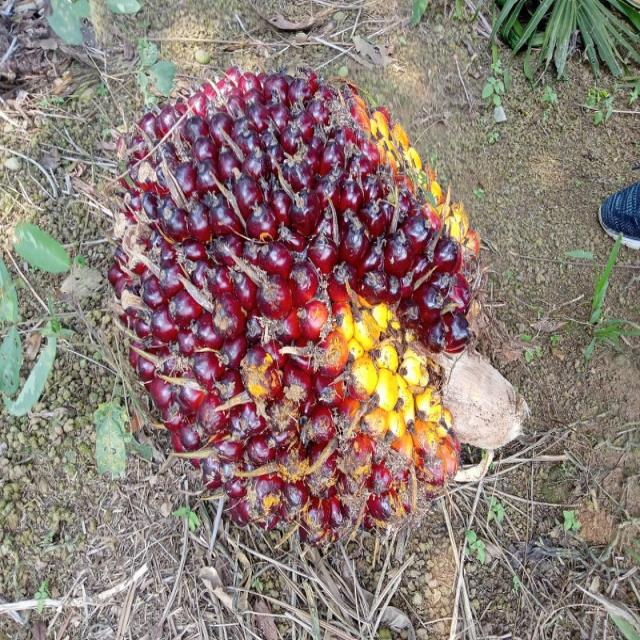fraksi 3: (101, 75, 479, 531)
